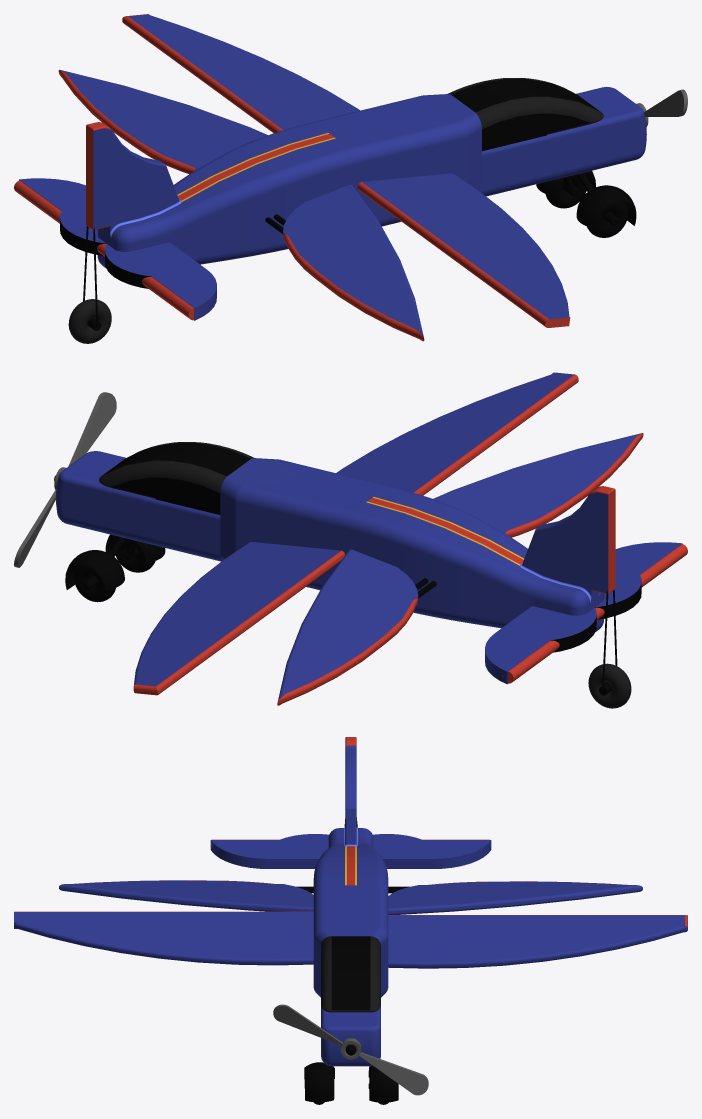
3 renders of one model, top to bottom at view 1: azimuth 30°, elevation 25°; view 2: azimuth 150°, elevation 25°; view 3: azimuth 270°, elevation 25°, orthographic. The views are drawn at different scales.
Parts seen in each view (by area): view 1: Body2.001; view 2: Body2.001; view 3: Body2.001.
Part boxes in pixels (x1,y1,x2,y2): Body2.001: [14, 14, 687, 343]; Body2.001: [14, 372, 687, 708]; Body2.001: [14, 737, 687, 1104].
Size of the model in its own units: 1.42 by 0.5099 by 1.8.
